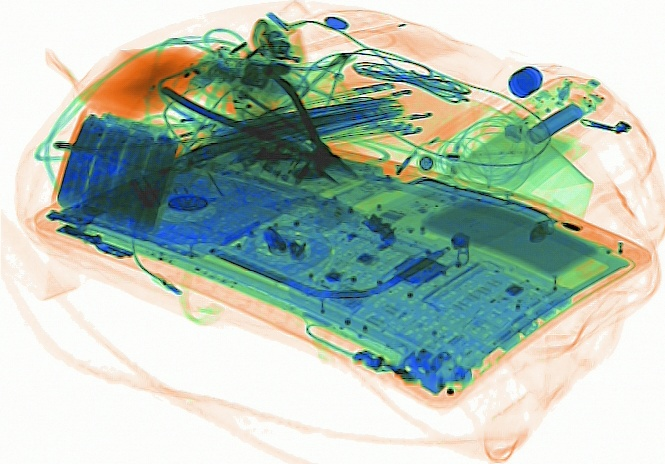powerbank: (43, 107, 180, 238)
